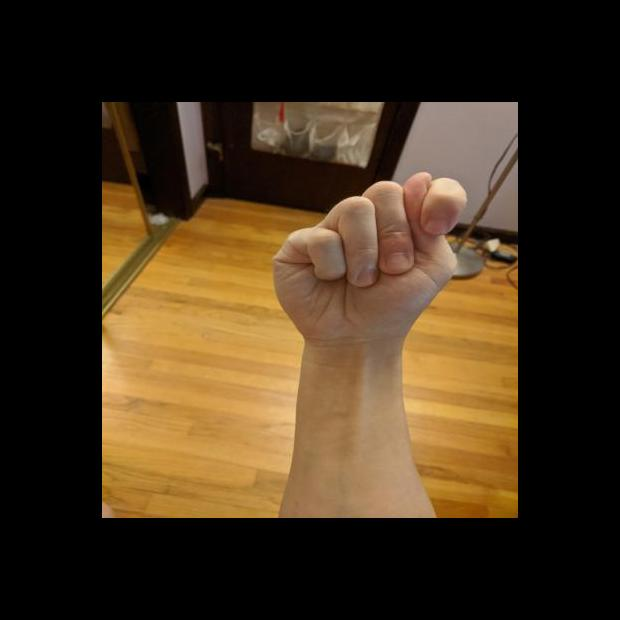S: (266, 169, 473, 351)
